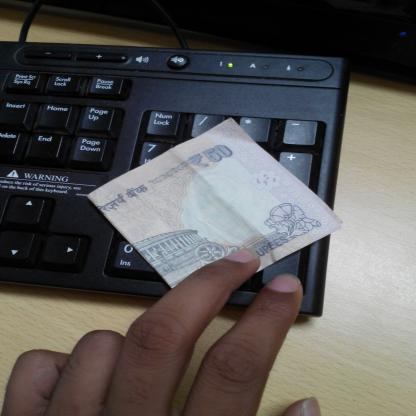Old50Back: (84, 117, 347, 290)
